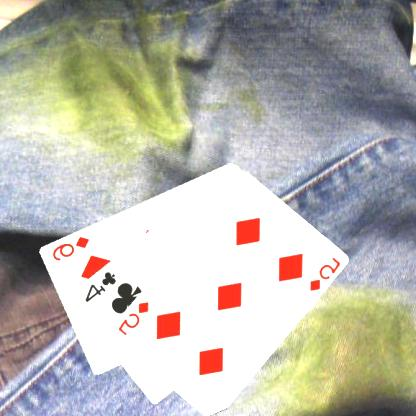4C: (83, 268, 119, 304)
5D: (116, 299, 152, 337), (308, 254, 343, 293)
6D: (50, 233, 92, 262)
